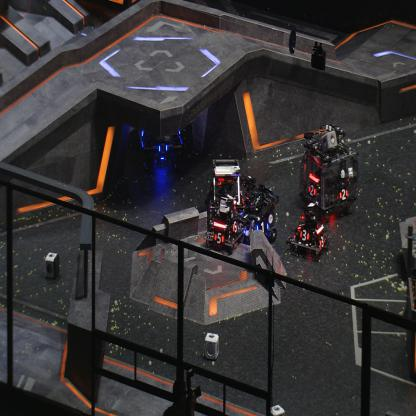car: (298, 131, 359, 220), (135, 78, 184, 163), (232, 174, 278, 247), (205, 156, 246, 230), (287, 204, 330, 262), (205, 196, 244, 256)
